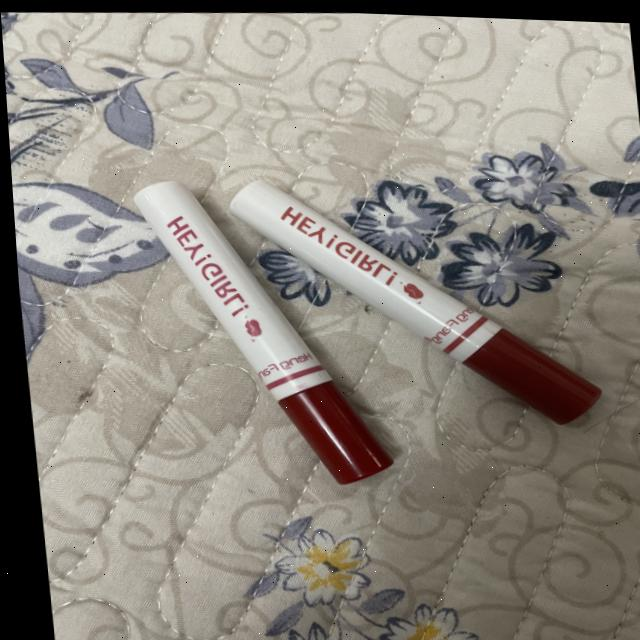Tint: (127, 142, 606, 501)
